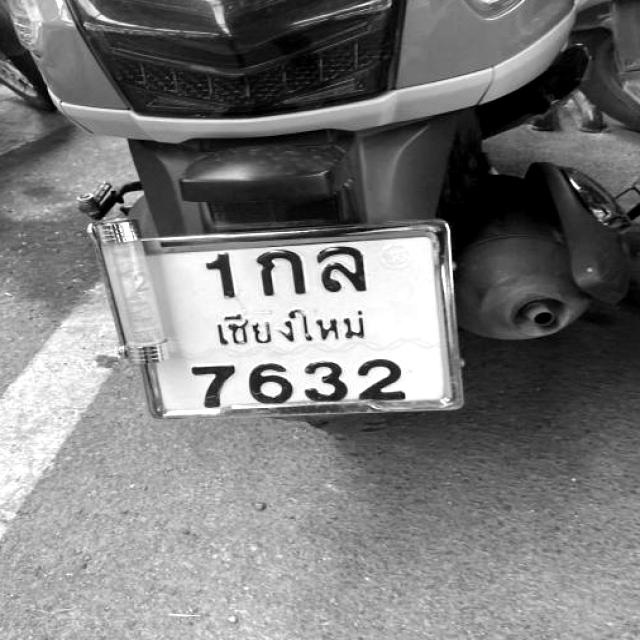letters: (257, 239, 306, 299), (318, 247, 372, 301), (199, 354, 238, 422), (358, 355, 409, 401), (205, 247, 247, 301), (301, 360, 347, 406), (249, 366, 291, 409)
license-plate: (122, 223, 465, 417)
province: (209, 307, 400, 340)
